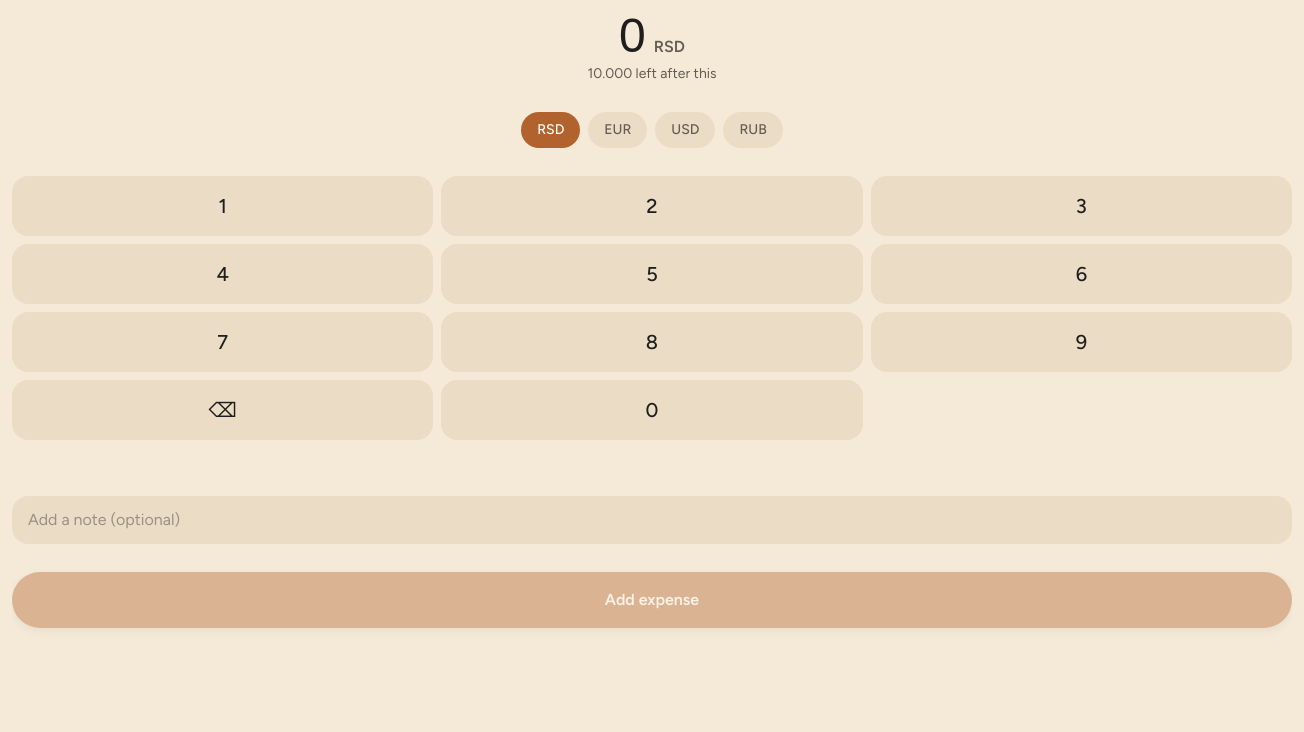
Test: AddExpenseForm › disables submit until an amount is entered
The width and height of the screenshot is (1304, 732).
Expected: the button "Add expense" is disabled, left=12, top=572, right=1292, bottom=628
Click the button "5".
click(652, 274)  # box left=441, top=244, right=863, bottom=304
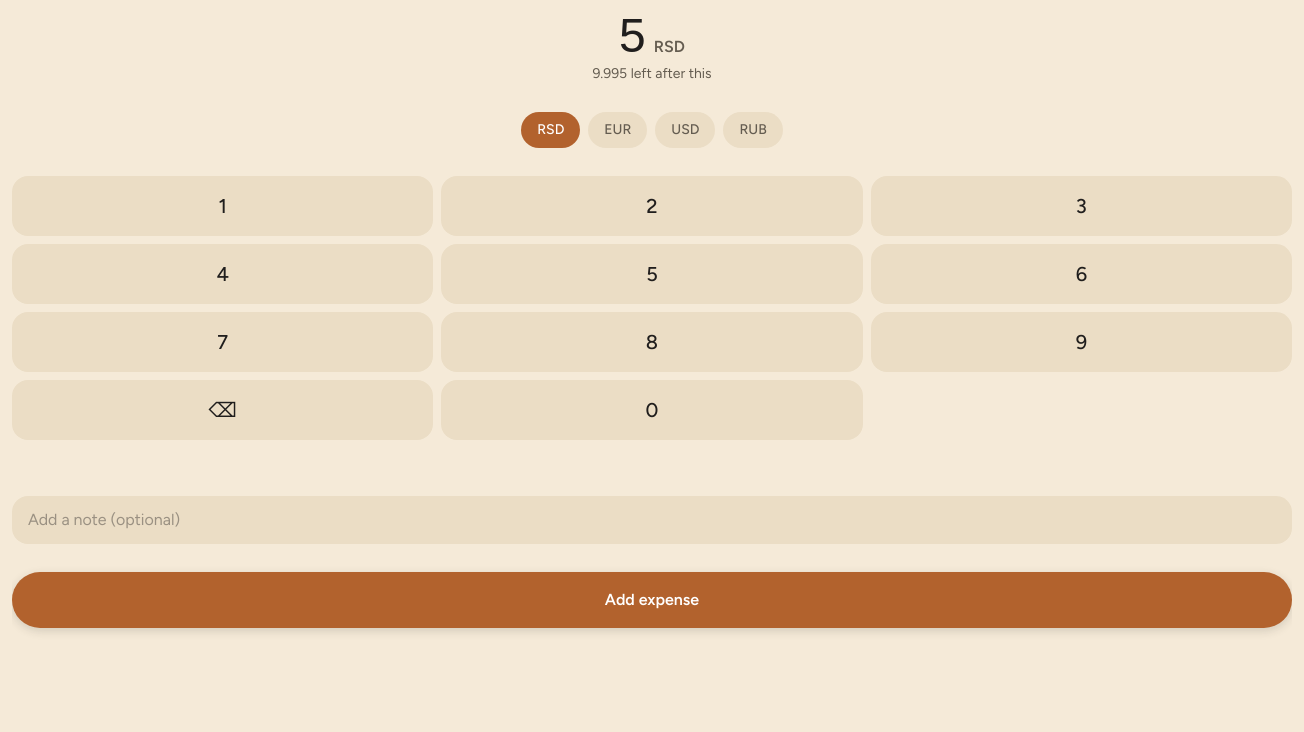
Result: the button "Add expense" is enabled at left=12, top=572, right=1292, bottom=628
